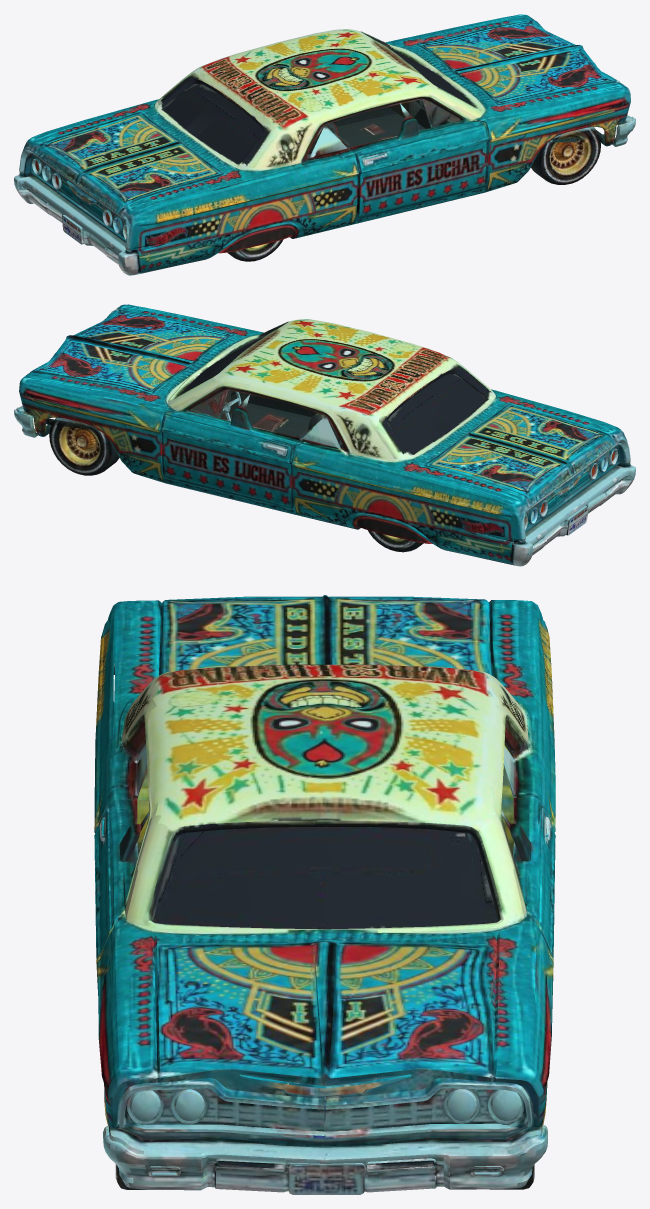
3 renders of one model, top to bottom at view 1: azimuth 30°, elevation 25°; view 2: azimuth 150°, elevation 25°; view 3: azimuth 270°, elevation 25°, orthographic. The views are drawn at different scales.
Visible parts, largest first — view 1: body; view 2: body; view 3: body.
Part boxes in pixels (x1,y1,x2,y2): body: (14, 14, 635, 275); body: (14, 304, 635, 566); body: (94, 595, 555, 1194).
Bounding box in the file's own units: 3.98 × 0.9449 × 1.53.
Materials: 1 (1 with a texture image).
